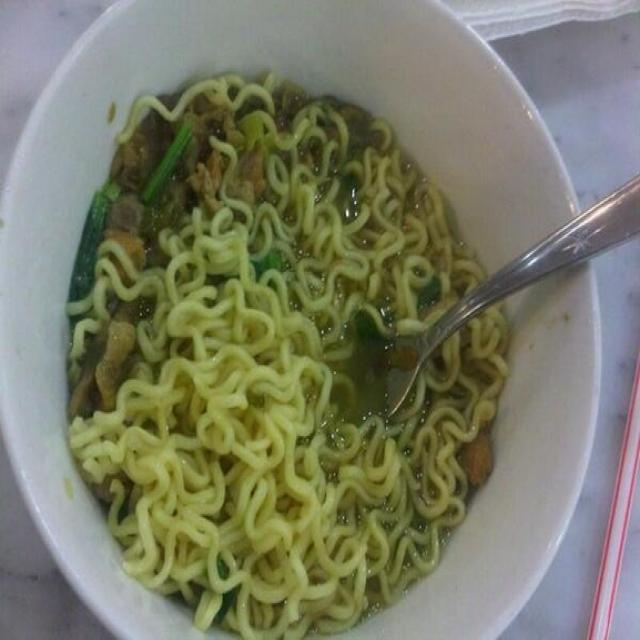面条主食: (26, 15, 576, 637)
